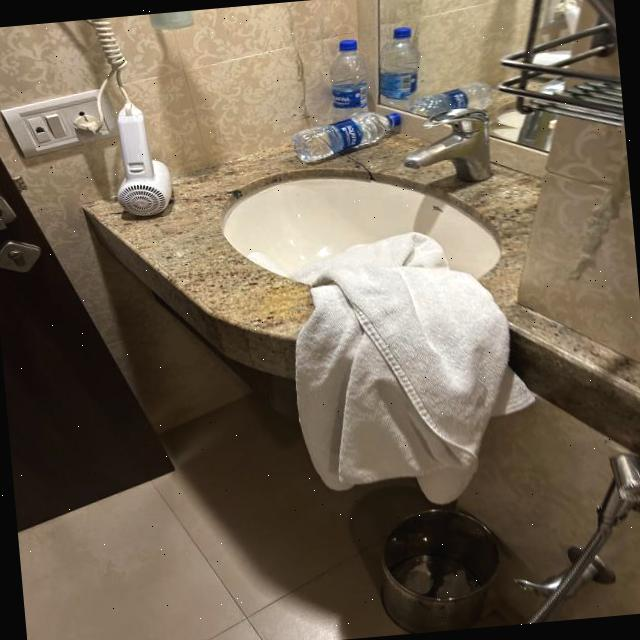disorganized_towel: (286, 224, 545, 524)
messy_sink: (220, 94, 528, 323)
